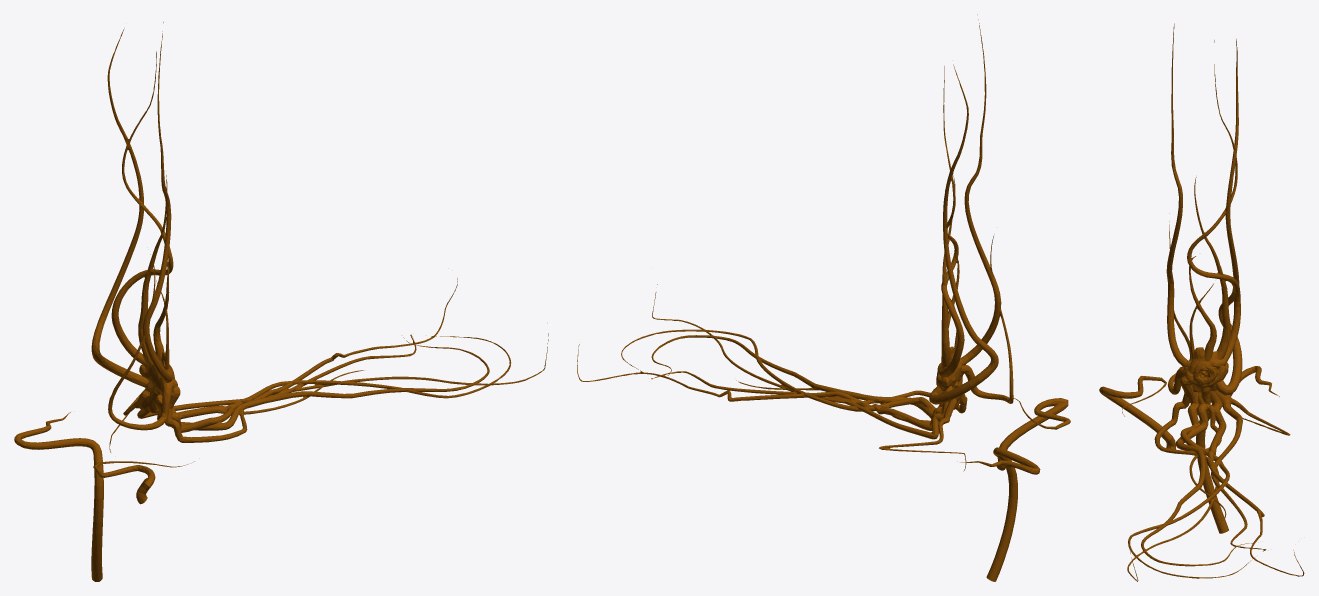
Rendered from RootsInGenerator.fbx.
The picture shows the model from 3 angles, left to right: view 1: azimuth 30°, elevation 25°; view 2: azimuth 150°, elevation 25°; view 3: azimuth 270°, elevation 25°; orthographic projection. The views are drawn at different scales.
Visible parts, largest first — view 1: Sphere; view 2: Sphere; view 3: Sphere.
Part boxes in pixels (x1,y1,x2,y2): Sphere: (14,22,548,581); Sphere: (577,14,1070,581); Sphere: (1099,23,1304,581).
Size of the model in its own units: 29.68 by 34.29 by 11.85.
